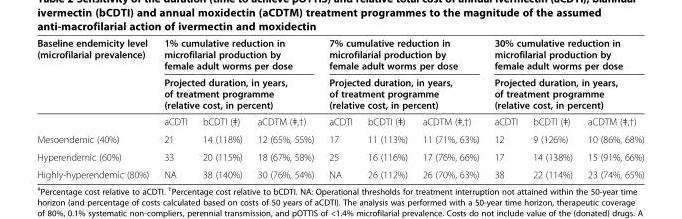table: (36, 36, 643, 179)
table column: (36, 36, 155, 179), (414, 36, 486, 179), (249, 36, 320, 179), (579, 36, 643, 179), (194, 36, 249, 179), (359, 36, 414, 179), (524, 36, 579, 179), (155, 36, 194, 179), (320, 36, 359, 179), (486, 36, 524, 179)
table column header: (36, 36, 643, 130)
table row: (36, 73, 643, 111), (36, 36, 643, 73), (36, 111, 643, 130), (36, 147, 643, 165), (36, 130, 643, 147), (36, 165, 643, 179)
table spanning cell: (320, 36, 486, 111), (155, 36, 320, 111), (486, 36, 643, 111), (36, 36, 155, 130)
